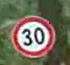limite 30: (9, 14, 56, 59)
